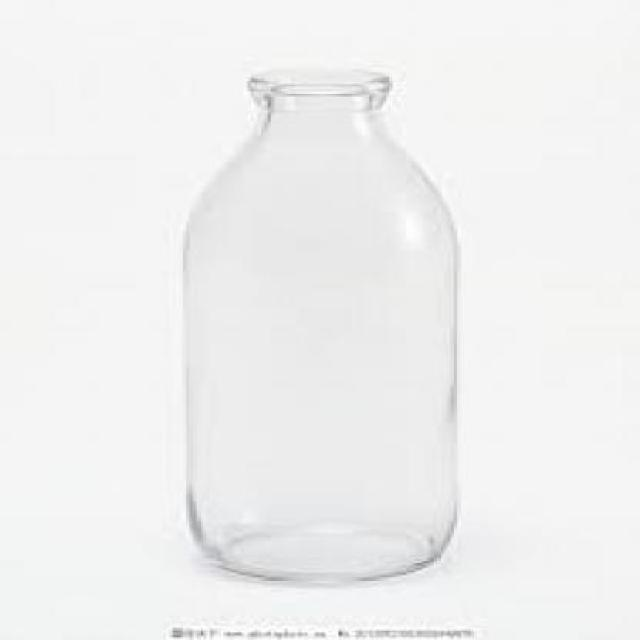kaca: (175, 68, 451, 575)
